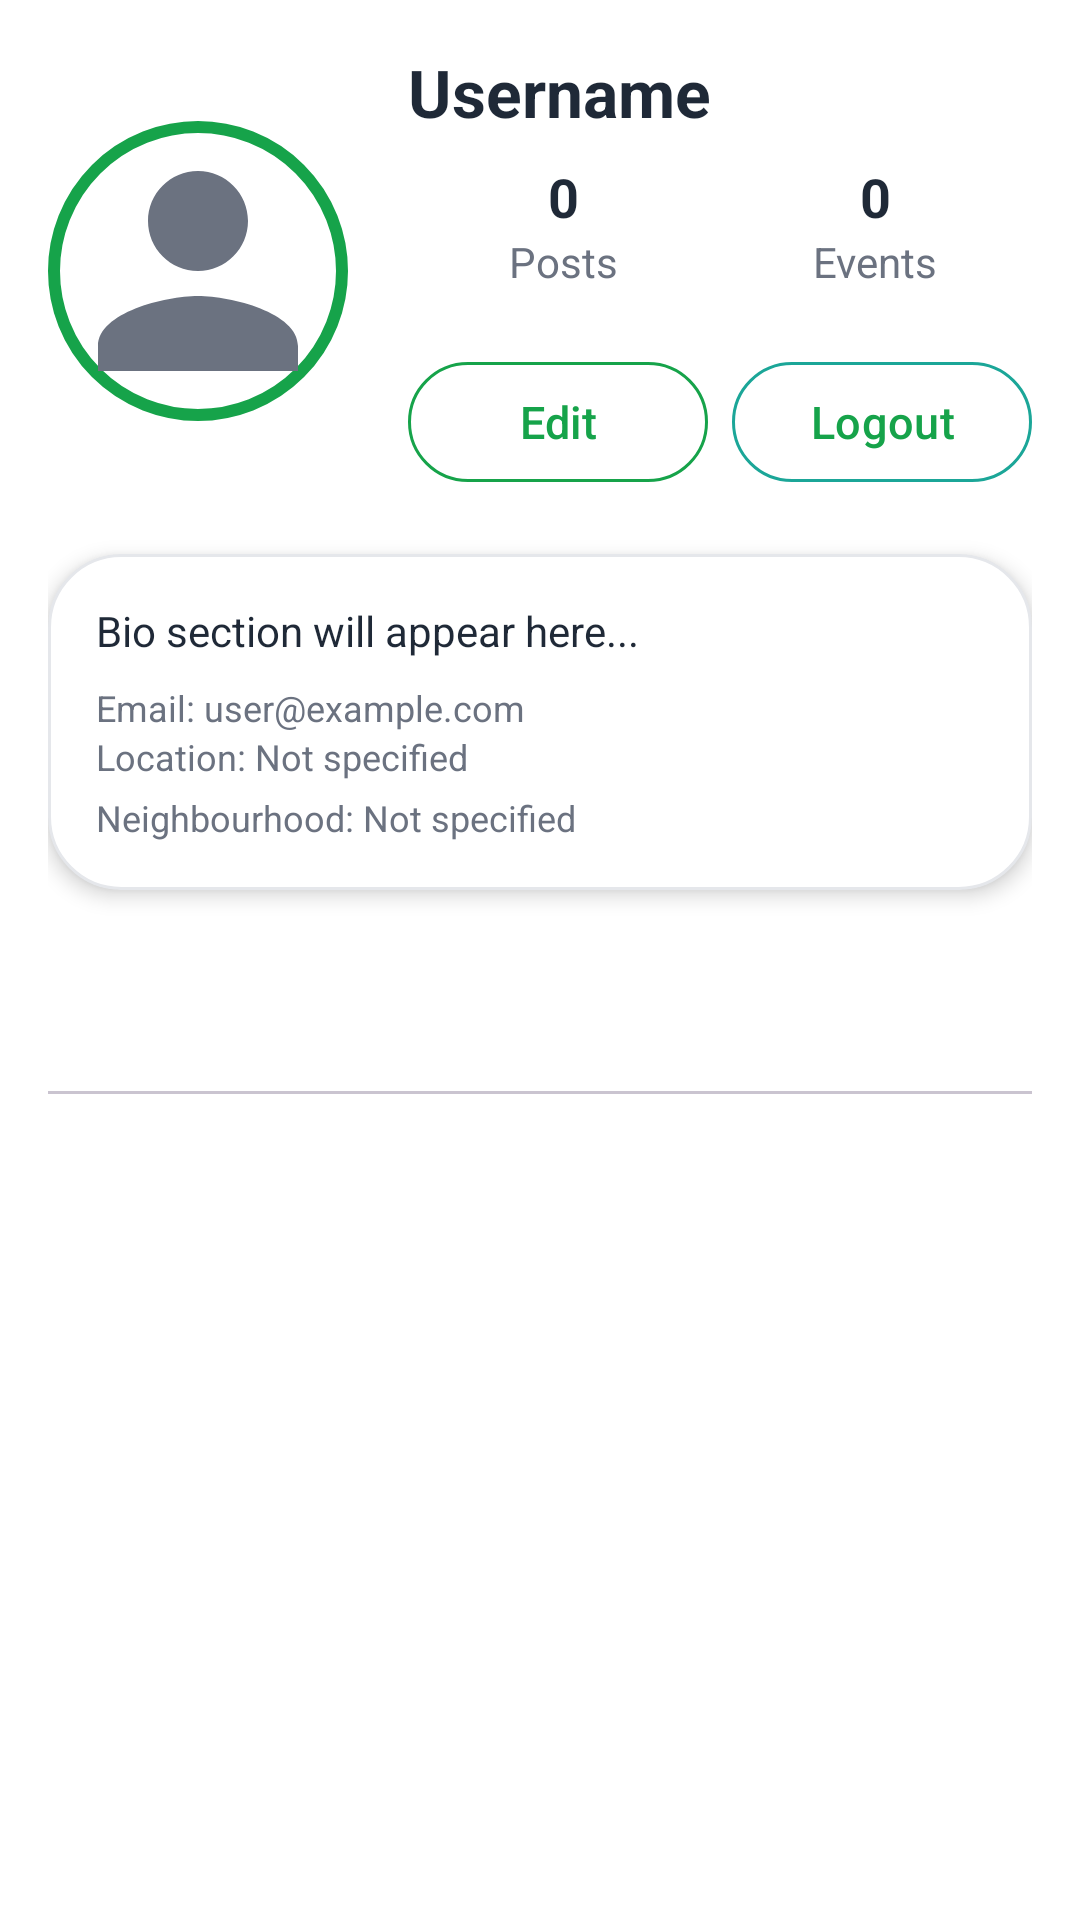

Point at icon controls on the screen. Image size 1080 x 1920, points as (x=x, y=y).
Profile Picture: (x=198, y=271)
